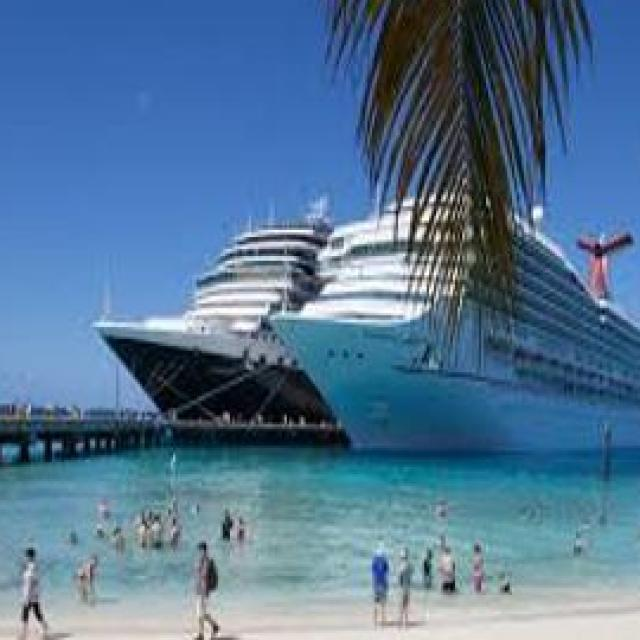passenger ship: (270, 180, 640, 460), (94, 190, 344, 429)
